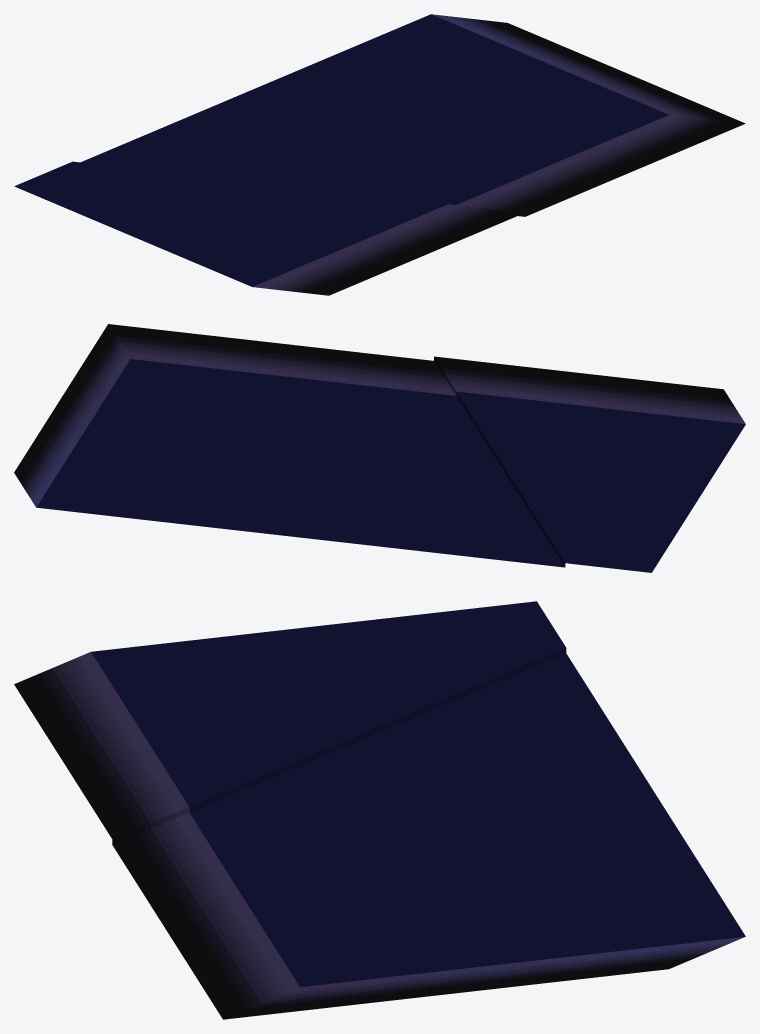
The picture shows the model from 3 angles, top to bottom: view 1: azimuth 30°, elevation 25°; view 2: azimuth 150°, elevation 25°; view 3: azimuth 270°, elevation 25°; orthographic projection. The views are drawn at different scales.
Parts seen in each view (by area): view 1: Joint_0_Object_0; view 2: Joint_0_Object_0; view 3: Joint_0_Object_0.
Part boxes in pixels (box(x1,y1,x2,y2)): Joint_0_Object_0: box(14, 14, 745, 295); Joint_0_Object_0: box(14, 324, 745, 572); Joint_0_Object_0: box(14, 601, 745, 1019).
Size of the model in its own units: 635 by 4 by 476.
1 material, 1 textured.
